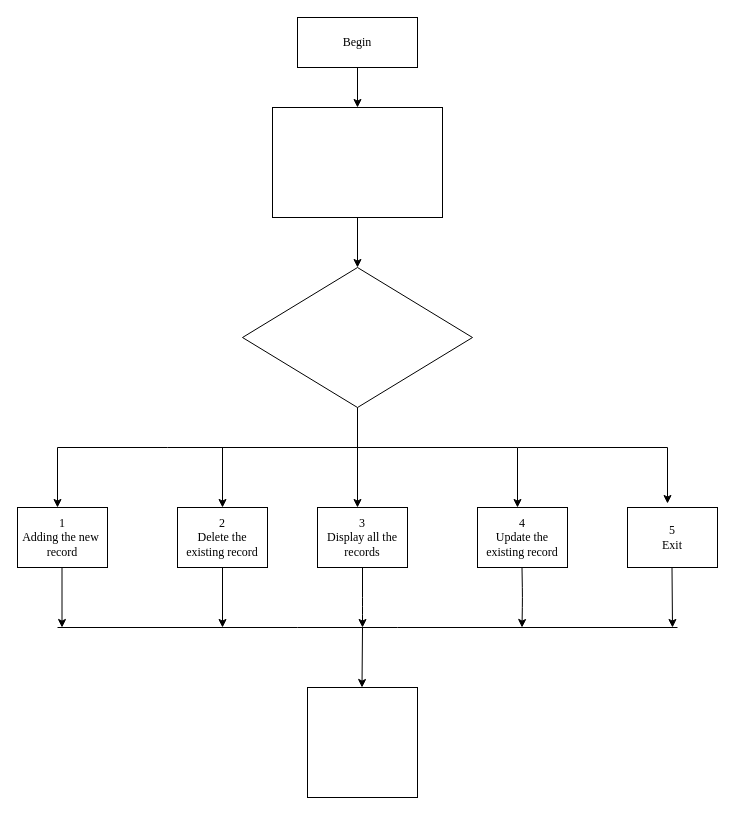
Some shapes in this 735 by 815 pixel diagram are drawn without their labels. The shapes that lost their labels are listed below. From the top down, each one's centre as x and y in pixels, then its label:
At [357,162]: "1 - Add Record 2 - Delete Record 3 - Display Record 4 - Modify Record 5 - Exit".
At [357,337]: "IF CHOICE=1 IF CHOICE=2 IF CHOICE=3 IF CHOICE=4 IF CHOICE=5".
At [362,742]: "End".
